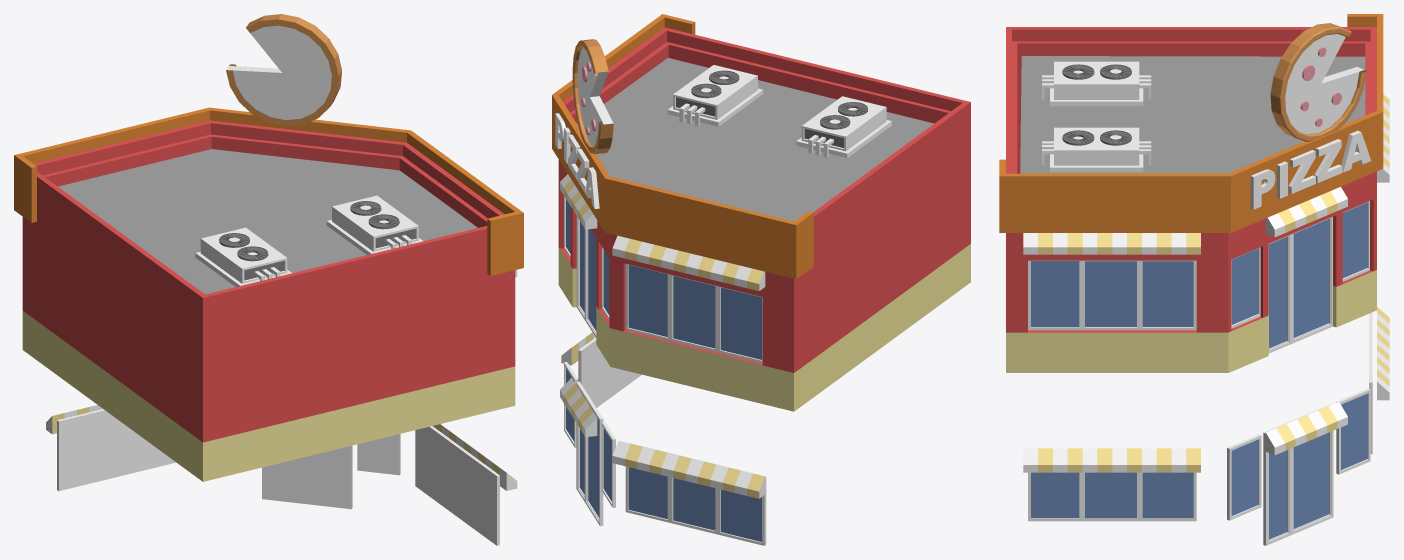
The model's file is PizzaHouse1.glb.
3 renders of one model, left to right at view 1: azimuth 30°, elevation 25°; view 2: azimuth 150°, elevation 25°; view 3: azimuth 270°, elevation 25°, orthographic. The views are drawn at different scales.
Visible parts, largest first — view 1: House_1.002, Roof_12.002, House_2_2.002, Pizza_2_2.001, Windows_3_6.004, Windows_1_6.004, Door_14_2.004, Cube.046, Cube.047, Windows_2_6.004, 03_16.004; view 2: House_1.002, Roof_12.002, House_2_2.002, Windows_1_6.005, Windows_1_6.004, Cube.046, Cube.047, 02_19.004, Pizza_2_2.001, 02_19.005, Door_14_2.004, Windows_3_6.004 (+7 smaller); view 3: House_1.002, Roof_12.002, House_2_2.002, Windows_3_6.005, Windows_3_6.004, Pizza_2_2.001, Door_14_2.005, Door_14_2.004, Cube.046, Cube.047, 03_16.004, 03_16.005 (+10 smaller).
Part boxes in pixels (left/top/right/bottom): House_1.002: left=22, top=120, right=515, bottom=481; Roof_12.002: left=58, top=149, right=477, bottom=294; House_2_2.002: left=14, top=107, right=523, bottom=275; Pizza_2_2.001: left=226, top=14, right=341, bottom=126; Windows_3_6.004: left=415, top=426, right=499, bottom=545; Windows_1_6.004: left=57, top=409, right=175, bottom=490; Door_14_2.004: left=262, top=445, right=352, bottom=509; Cube.046: left=195, top=227, right=291, bottom=286; Cube.047: left=326, top=195, right=423, bottom=254; Windows_2_6.004: left=357, top=434, right=400, bottom=475; 03_16.004: left=433, top=424, right=517, bottom=490; House_1.002: left=558, top=27, right=970, bottom=411; Roof_12.002: left=577, top=58, right=933, bottom=221; House_2_2.002: left=552, top=14, right=813, bottom=279; Windows_1_6.005: left=625, top=264, right=762, bottom=363; Windows_1_6.004: left=625, top=442, right=766, bottom=545; Cube.046: left=796, top=96, right=891, bottom=157; Cube.047: left=667, top=65, right=763, bottom=126; 02_19.004: left=612, top=441, right=765, bottom=498; Pizza_2_2.001: left=572, top=39, right=613, bottom=154; 02_19.005: left=612, top=235, right=765, bottom=290; Door_14_2.004: left=576, top=381, right=603, bottom=526; Windows_3_6.004: left=578, top=337, right=641, bottom=407; House_1.002: left=1006, top=27, right=1376, bottom=372; Roof_12.002: left=1020, top=56, right=1365, bottom=173; House_2_2.002: left=999, top=14, right=1383, bottom=232; Windows_3_6.005: left=1028, top=260, right=1196, bottom=330; Windows_3_6.004: left=1028, top=472, right=1196, bottom=521; Pizza_2_2.001: left=1270, top=23, right=1366, bottom=141; Door_14_2.005: left=1268, top=217, right=1332, bottom=353; Door_14_2.004: left=1263, top=404, right=1333, bottom=545; Cube.046: left=1042, top=61, right=1151, bottom=106; Cube.047: left=1042, top=127, right=1151, bottom=172; 03_16.004: left=1023, top=448, right=1200, bottom=472; 03_16.005: left=1023, top=233, right=1200, bottom=254.
Size of the model in its own units: 0.2385 by 0.3348 by 0.2385.
